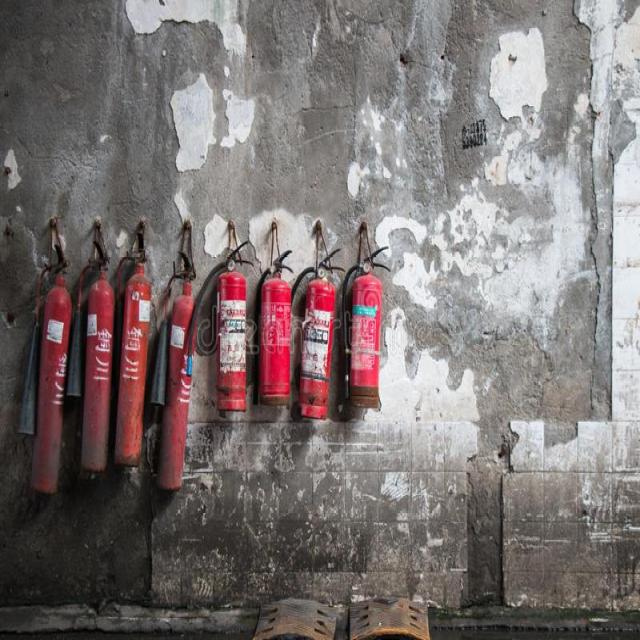fire_extinguisher: (13, 239, 71, 499), (62, 235, 120, 476), (144, 247, 200, 495), (182, 237, 255, 413), (277, 243, 345, 425), (110, 245, 156, 468), (339, 242, 392, 410), (249, 247, 295, 408)
